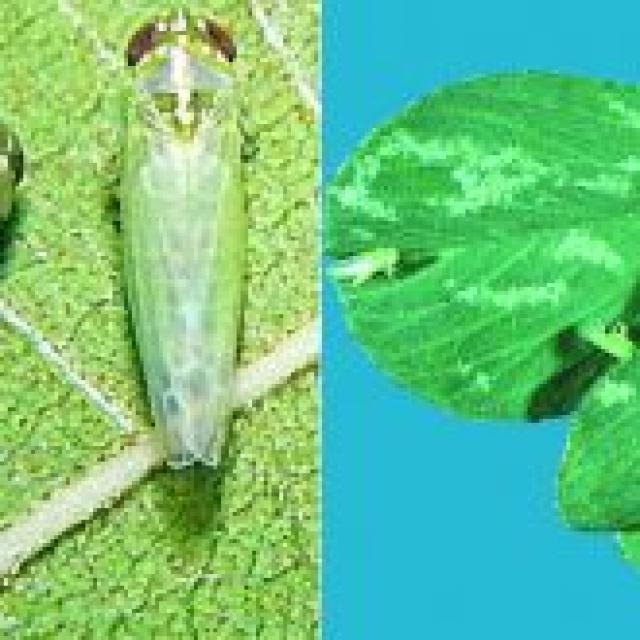Yechan: (93, 3, 273, 490)
